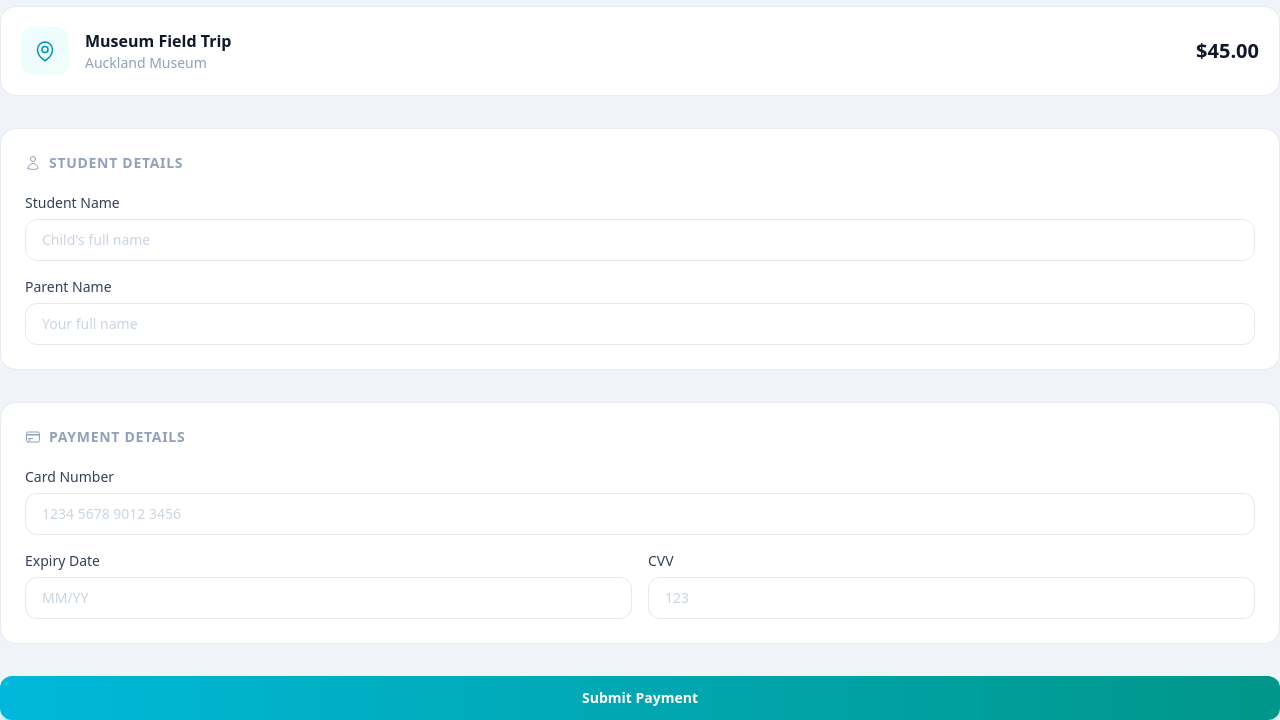
Test: PaymentForm › validates required fields on submit
(page scrolled)
Click the button "Submit Payment" at (640, 698), box [0,676,1279,719]
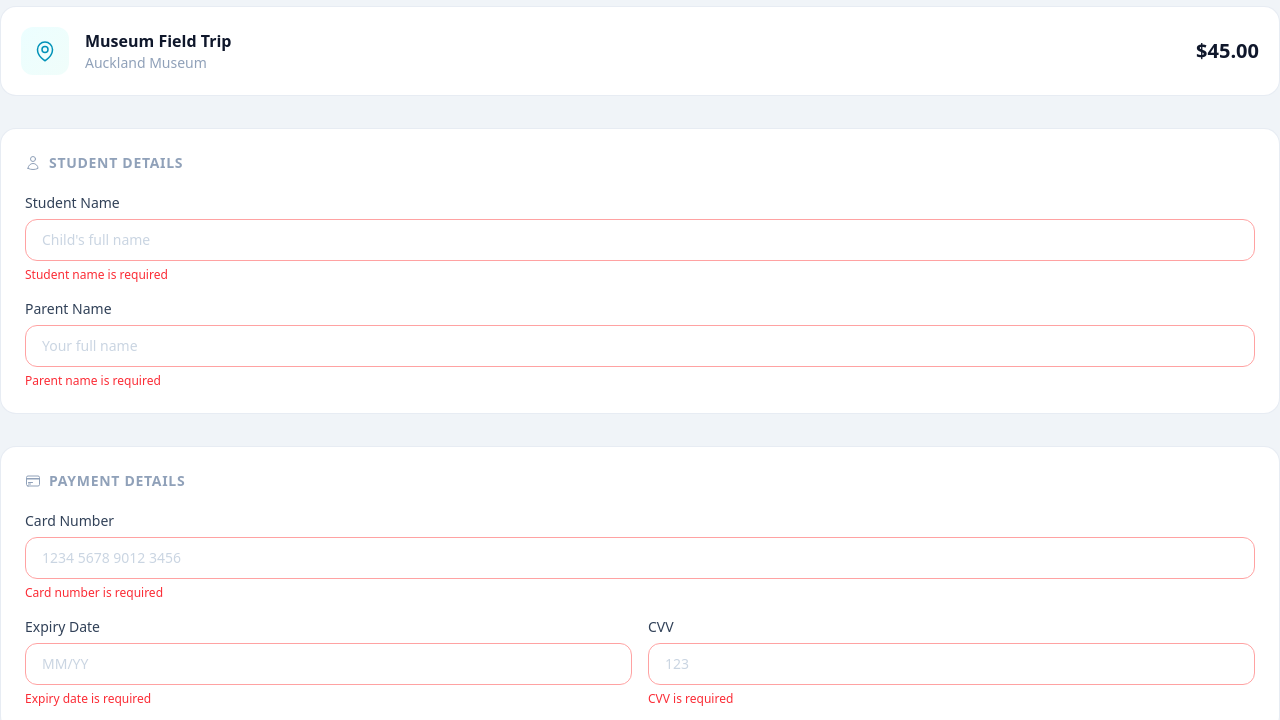
Expected: the text "Student name is required" is shown, [25,266,168,283]
